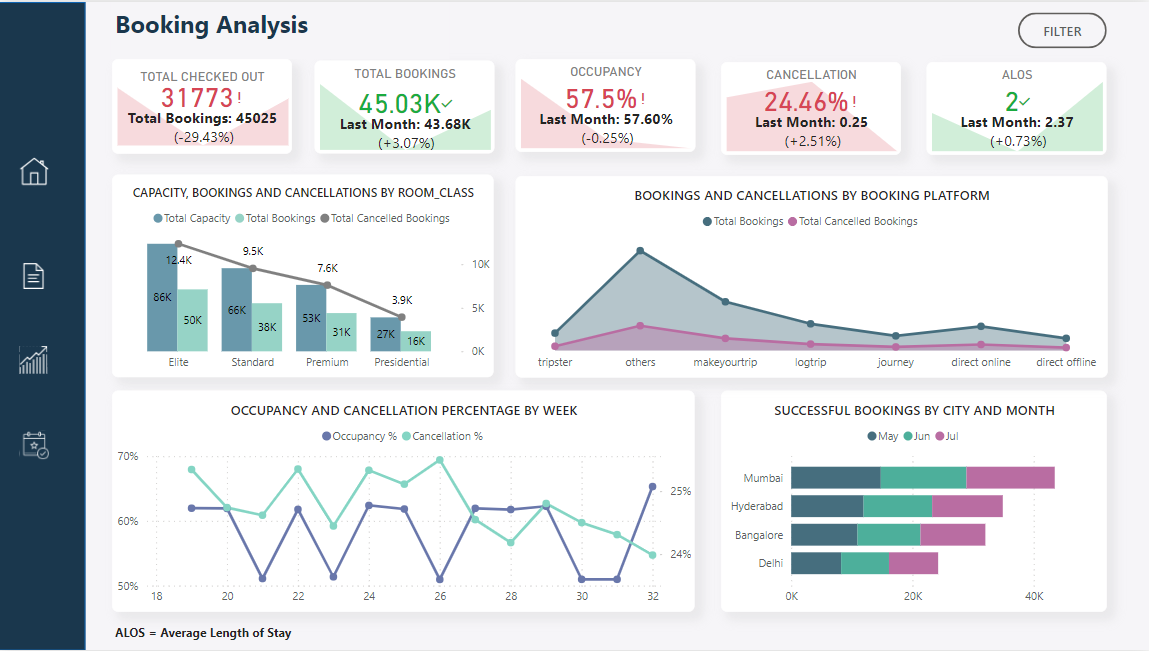

The dashboard page shown, as its layout file describes it:
{"tool":"powerbi","page":{"name":"Booking Analysis","canvas":[1280,720],"ordinal":3},"visuals":[{"type":"shape","title":"Menu Background","box":[0,0,97.2,720.6],"z":0},{"type":"actionButton","box":[19.2,169,100,40.7],"z":1000},{"type":"actionButton","box":[19.2,284.3,50.9,39],"z":2000},{"type":"actionButton","box":[19.8,471.5,50.2,40.5],"z":3000},{"type":"kpi","title":"TOTAL BOOKINGS","fields":{"Indicator":["Measures Table.Total Bookings"],"Goal":["Measures Table.Total Bookings LM"],"TrendLine":["dim_date.month"]},"box":[350.9,64.4,200.1,103.4],"z":4000},{"type":"kpi","title":"TOTAL CHECKED OUT","fields":{"TrendLine":["dim_date.month"],"Indicator":["Measures Table.Total Checked Out Bookings"],"Goal":["Measures Table.Total Bookings"]},"box":[127.2,63.6,200,105],"z":6000},{"type":"kpi","title":"CANCELLATION","fields":{"Indicator":["Measures Table.Cancellation %"],"Goal":["Measures Table.Cancellation Rate Last Month"],"TrendLine":["dim_date.month"]},"box":[803.6,66.1,200.1,103.4],"z":7000},{"type":"kpi","title":"OCCUPANCY ","fields":{"Indicator":["Measures Table.Occupancy %"],"Goal":["Measures Table.Occupancy % Last Month"],"TrendLine":["dim_date.month"]},"box":[574.7,62.7,200.1,103.4],"z":8000},{"type":"kpi","title":" ALOS ","fields":{"Indicator":["Measures Table.ALOS_Average Length Of Stay"],"Goal":["Measures Table.ALOS LM"],"TrendLine":["dim_date.month"]},"box":[1032.5,66.1,200.1,103.4],"z":9000},{"type":"lineClusteredColumnComboChart","title":"CAPACITY, BOOKINGS AND CANCELLATIONS BY ROOM_CLASS","fields":{"Category":["dim_rooms.room_class"],"Y":["Measures Table.Total Capacity","Measures Table.Total Bookings"],"Y2":["Measures Table.Total Cancelled Bookings"]},"box":[127.2,191.6,423.8,225.5],"z":10000},{"type":"barChart","title":"SUCCESSFUL BOOKINGS BY CITY AND MONTH","fields":{"Category":["dim_hotels.city"],"Y":["Measures Table.Successful Bookings"],"Series":["dim_date.month"]},"box":[803.6,432.3,428.9,245.8],"z":11000},{"type":"areaChart","title":"BOOKINGS AND CANCELLATIONS BY BOOKING PLATFORM","fields":{"Y":["Measures Table.Total Bookings","Measures Table.Total Cancelled Bookings"],"Category":["fact_bookings.booking_platform"]},"box":[574.7,193.3,657.8,223.8],"z":12000},{"type":"lineChart","title":"OCCUPANCY AND CANCELLATION PERCENTAGE BY WEEK","fields":{"Y":["Measures Table.Occupancy %"],"Y2":["Measures Table.Cancellation %"],"Category":["dim_date.week no"]},"box":[127.2,432.3,647.6,245.8],"z":13000},{"type":"textbox","box":[125.7,0,377,63.6],"z":14000},{"type":"textbox","box":[125.7,685.6,222.7,35],"z":15000},{"type":"actionButton","title":"Filter Button","box":[1134.1,11.1,98.6,39.8],"z":16000},{"type":"actionButton","box":[19.2,377.5,50.9,39],"z":18000}]}

Visuals, with their boxes on the page's 1280x720 design canvas (x1, y1, x2, y2). These are canvas units, not pixel positions in the 1149x651 screenshot, which may show the page scaled, cropped or inside an application window:
"Menu Background" shape: 0,0,97,721
actionButton: 19,169,119,210
actionButton: 19,284,70,323
actionButton: 20,472,70,512
"TOTAL BOOKINGS" kpi: 351,64,551,168
"TOTAL CHECKED OUT" kpi: 127,64,327,169
"CANCELLATION" kpi: 804,66,1004,170
"OCCUPANCY " kpi: 575,63,775,166
" ALOS " kpi: 1032,66,1233,170
"CAPACITY, BOOKINGS AND CANCELLATIONS BY ROOM_CLASS" lineClusteredColumnComboChart: 127,192,551,417
"SUCCESSFUL BOOKINGS BY CITY AND MONTH" barChart: 804,432,1232,678
"BOOKINGS AND CANCELLATIONS BY BOOKING PLATFORM" areaChart: 575,193,1232,417
"OCCUPANCY AND CANCELLATION PERCENTAGE BY WEEK" lineChart: 127,432,775,678
textbox: 126,0,503,64
textbox: 126,686,348,721
"Filter Button" actionButton: 1134,11,1233,51
actionButton: 19,378,70,416
